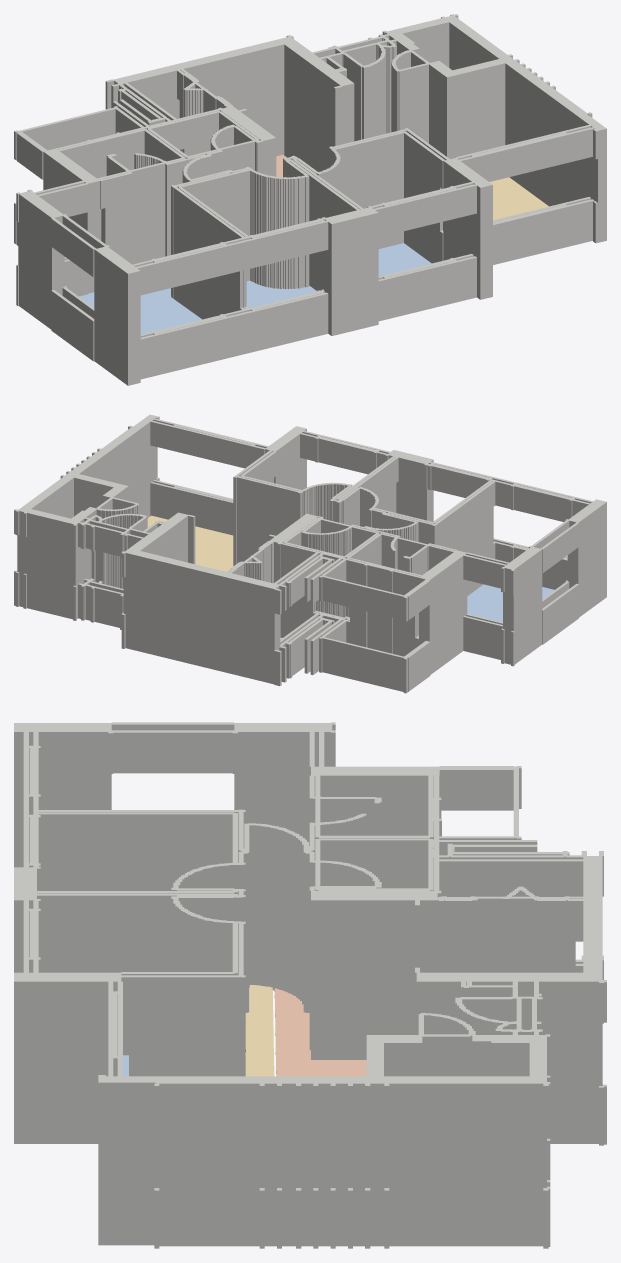
The picture shows the model from 3 angles, top to bottom: view 1: azimuth 30°, elevation 25°; view 2: azimuth 150°, elevation 25°; view 3: azimuth 270°, elevation 25°; orthographic projection. The views are drawn at different scales.
Parts seen in each view (by area): view 1: walls, room:bedroom:4, room:living:7, room:bedroom:6, room:bedroom:5; view 2: walls, room:living:7, room:bedroom:4; view 3: walls, room:kitchen:2, room:living:7.
Boxes of the visible parts, bbox=[...] form: walls: bbox=[14, 14, 606, 385]; room:bedroom:4: bbox=[79, 288, 201, 334]; room:living:7: bbox=[489, 177, 548, 219]; room:bedroom:6: bbox=[378, 243, 431, 276]; room:bedroom:5: bbox=[246, 280, 316, 307]; walls: bbox=[14, 414, 606, 693]; room:living:7: bbox=[147, 515, 233, 571]; room:bedroom:4: bbox=[467, 584, 554, 622]; walls: bbox=[14, 722, 606, 1248]; room:kitchen:2: bbox=[274, 988, 366, 1076]; room:living:7: bbox=[245, 985, 274, 1076].
Size of the model in its own units: 13.43 by 2.8 by 9.26.
